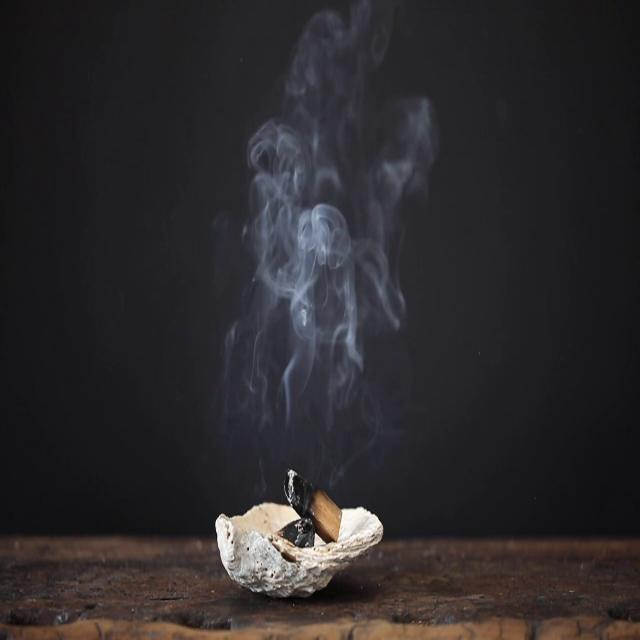Smoke: (225, 0, 460, 438)
